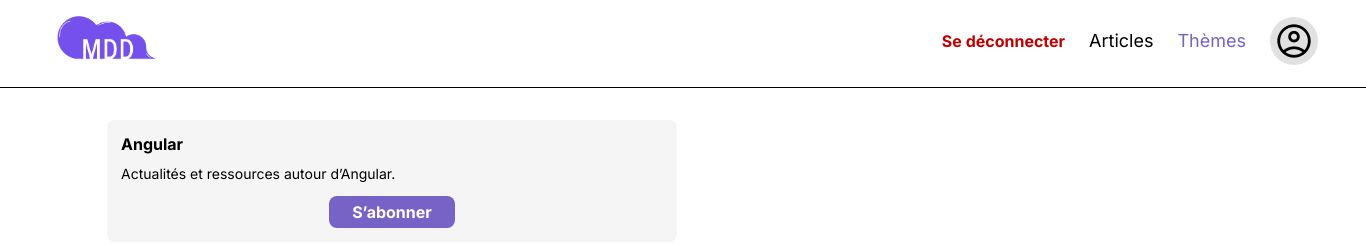
Test: Thèmes › abonne l’utilisateur puis rend le bouton inactif
Click the button "S’abonner".
click(392, 212)  # box [329,196,455,228]
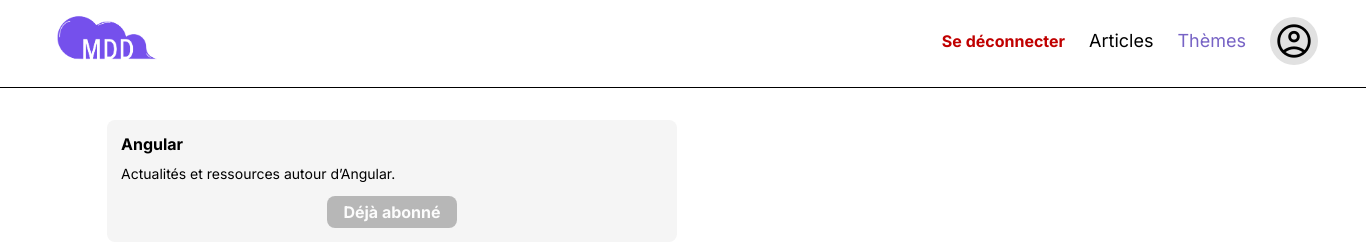
Expected: the button "Déjà abonné" is disabled, [327,196,456,228]
